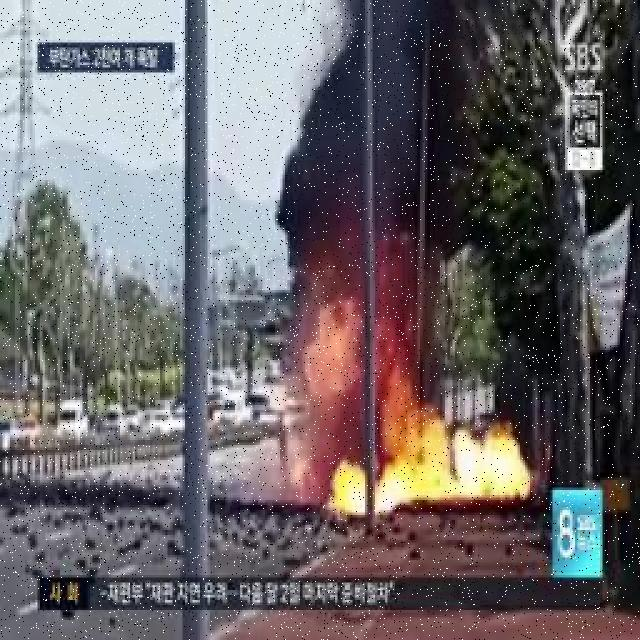fire: (328, 437, 538, 512)
smoke: (282, 8, 438, 367)
